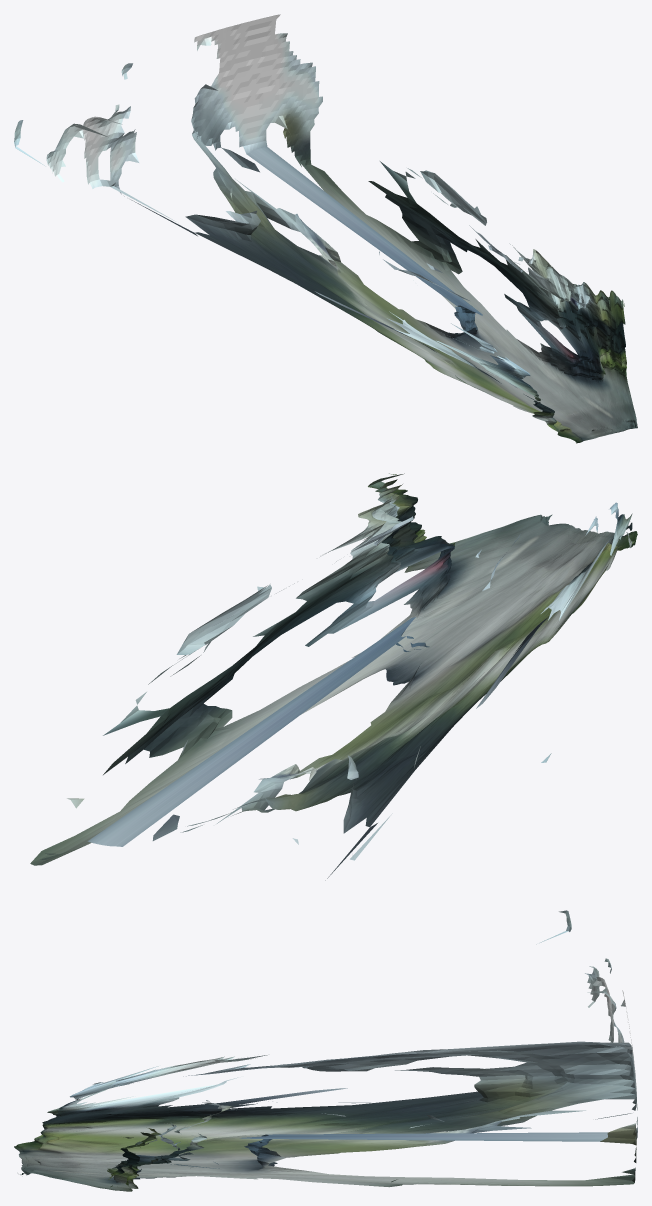
The picture shows the model from 3 angles, top to bottom: view 1: azimuth 30°, elevation 25°; view 2: azimuth 150°, elevation 25°; view 3: azimuth 270°, elevation 25°; orthographic projection. The views are drawn at different scales.
Visible parts, largest first — view 1: defaultobject; view 2: defaultobject; view 3: defaultobject.
Part boxes in pixels (<box>): defaultobject: <box>14,14,637,443</box>; defaultobject: <box>30,473,637,880</box>; defaultobject: <box>14,910,637,1191</box>.
Size of the model in its own units: 26.68 by 11.82 by 44.93.
1 material, 1 textured.
